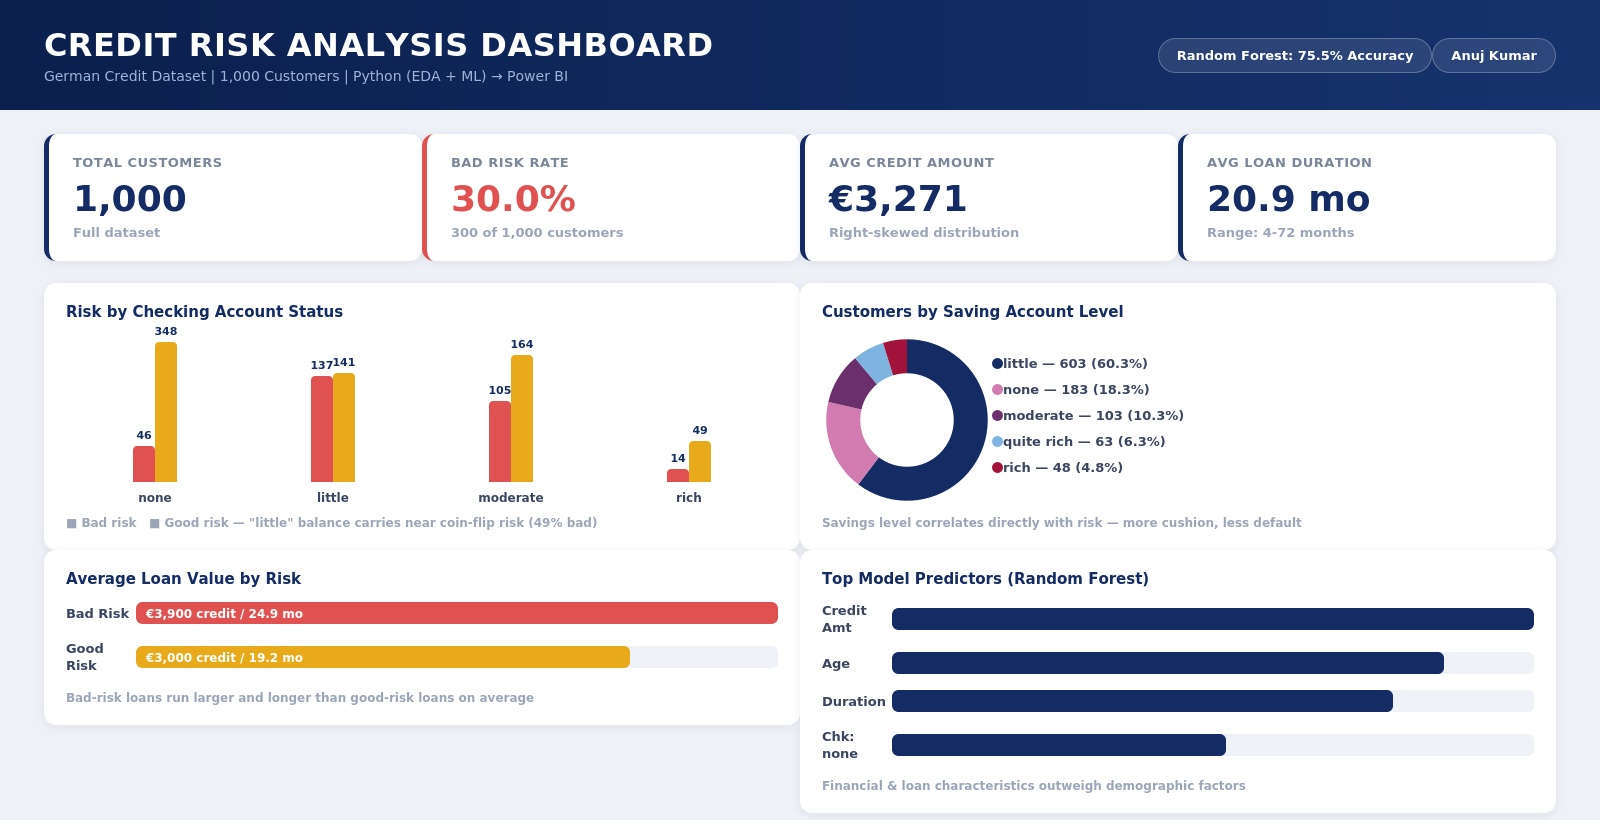

This screenshot's page, from the dashboard's own definition file:
{"tool":"powerbi","page":{"name":"Page 1","canvas":[1280,720],"ordinal":0},"visuals":[{"type":"cardVisual","fields":{"Data":["credit_clean.Total Customers"]},"box":[0,144,192,112],"z":0},{"type":"clusteredColumnChart","title":"Risk by Checking Account","fields":{"Category":["credit_clean.Checking account"],"Series":["credit_clean.Risk"],"Y":["CountNonNull(credit_clean.Customer_id)"]},"box":[16,496,432,224],"z":1000},{"type":"donutChart","title":" Risk by Saving Accounts","fields":{"Y":["CountNonNull(credit_clean.Customer_id)"],"Category":["credit_clean.Saving accounts"]},"box":[0,256,432,224],"z":2000},{"type":"clusteredColumnChart","title":"Credit Amount by Risk","fields":{"Category":["credit_clean.Risk"],"Y":["Avg(credit_clean.Credit amount)"]},"box":[576,496,288,224],"z":3000},{"type":"clusteredColumnChart","title":"Average Duration by Risk","fields":{"Category":["credit_clean.Risk"],"Y":["Avg(credit_clean.Duration)"]},"box":[576,272,304,208],"z":4000},{"type":"shape","box":[0,0,1280,144],"z":5000},{"type":"textbox","box":[0,32,1280,80],"z":6000},{"type":"cardVisual","fields":{"Data":["credit_clean.Avg Credit Amount"]},"box":[256,144,176,112],"z":7000},{"type":"cardVisual","fields":{"Data":["credit_clean.Avg Duration"]},"box":[528,144,192,112],"z":8000},{"type":"cardVisual","fields":{"Data":["credit_clean.Bad Risk %"]},"box":[768,144,192,112],"z":9000},{"type":"slicer","fields":{"Values":["credit_clean.Purpose"]},"box":[928,144,208,288],"z":10000}]}

Visuals, with their boxes on the page's 1280x720 design canvas (x1, y1, x2, y2). These are canvas units, not pixel positions in the 1600x820 screenshot, which may show the page scaled, cropped or inside an application window:
cardVisual - credit_clean.Total Customers: <region>0, 144, 192, 256</region>
"Risk by Checking Account" clusteredColumnChart: <region>16, 496, 448, 720</region>
" Risk by Saving Accounts" donutChart: <region>0, 256, 432, 480</region>
"Credit Amount by Risk" clusteredColumnChart: <region>576, 496, 864, 720</region>
"Average Duration by Risk" clusteredColumnChart: <region>576, 272, 880, 480</region>
shape: <region>0, 0, 1280, 144</region>
textbox: <region>0, 32, 1280, 112</region>
cardVisual - credit_clean.Avg Credit Amount: <region>256, 144, 432, 256</region>
cardVisual - credit_clean.Avg Duration: <region>528, 144, 720, 256</region>
cardVisual - credit_clean.Bad Risk %: <region>768, 144, 960, 256</region>
slicer - credit_clean.Purpose: <region>928, 144, 1136, 432</region>
